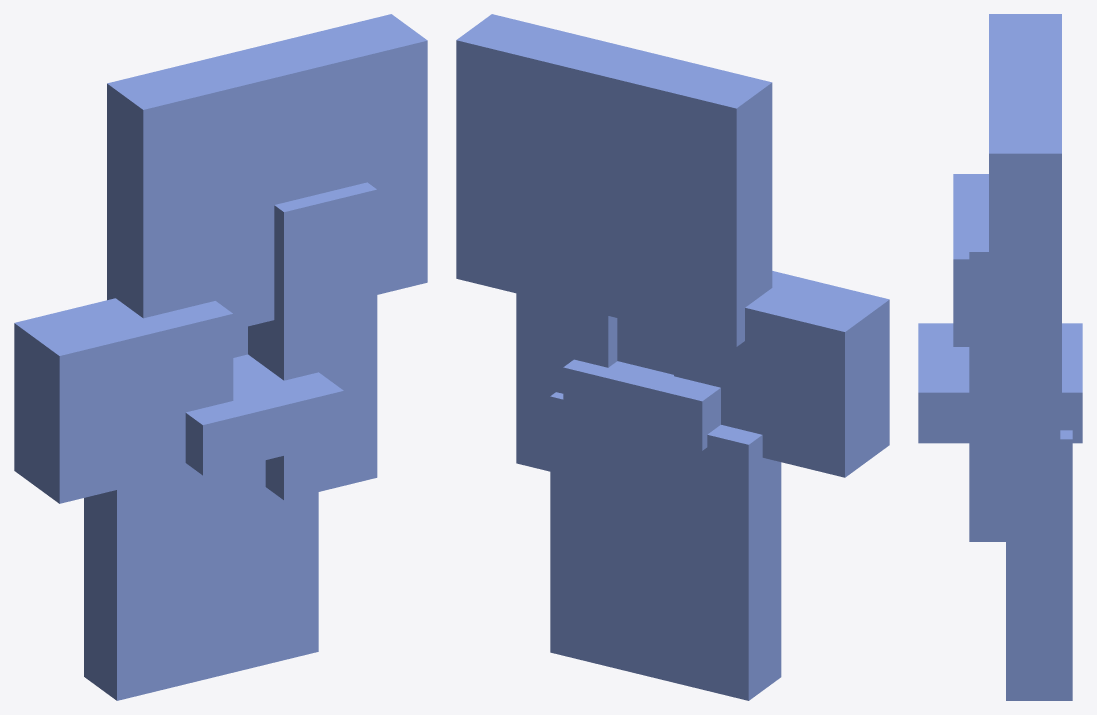
The model's file is throughput2.fbx.
3 renders of one model, left to right at view 1: azimuth 30°, elevation 25°; view 2: azimuth 150°, elevation 25°; view 3: azimuth 270°, elevation 25°, orthographic. The views are drawn at different scales.
Visible parts, largest first — view 1: Cube.044, Cube.045, Cube.042, Cube.043, Cube.041; view 2: Cube.044, Cube.045, Cube.042, Cube.041, Cube.043, Plane; view 3: Cube.044, Cube.043, Cube.045, Cube.041, Cube.042.
Boxes of the visible parts, x1,y1,x2,y2 form: Cube.044: [107, 14, 427, 329]; Cube.045: [84, 460, 318, 700]; Cube.042: [14, 298, 233, 503]; Cube.043: [248, 182, 377, 500]; Cube.041: [185, 354, 343, 475]; Cube.044: [456, 14, 772, 346]; Cube.045: [550, 392, 781, 700]; Cube.042: [674, 271, 889, 477]; Cube.041: [563, 359, 720, 450]; Cube.043: [516, 293, 617, 471]; Plane: [617, 318, 673, 374]; Cube.044: [989, 14, 1061, 397]; Cube.043: [969, 206, 1060, 541]; Cube.045: [1006, 430, 1072, 700]; Cube.041: [918, 323, 1082, 443]; Cube.042: [953, 174, 988, 346].
Size of the model in its own units: 464 by 681 by 170.
